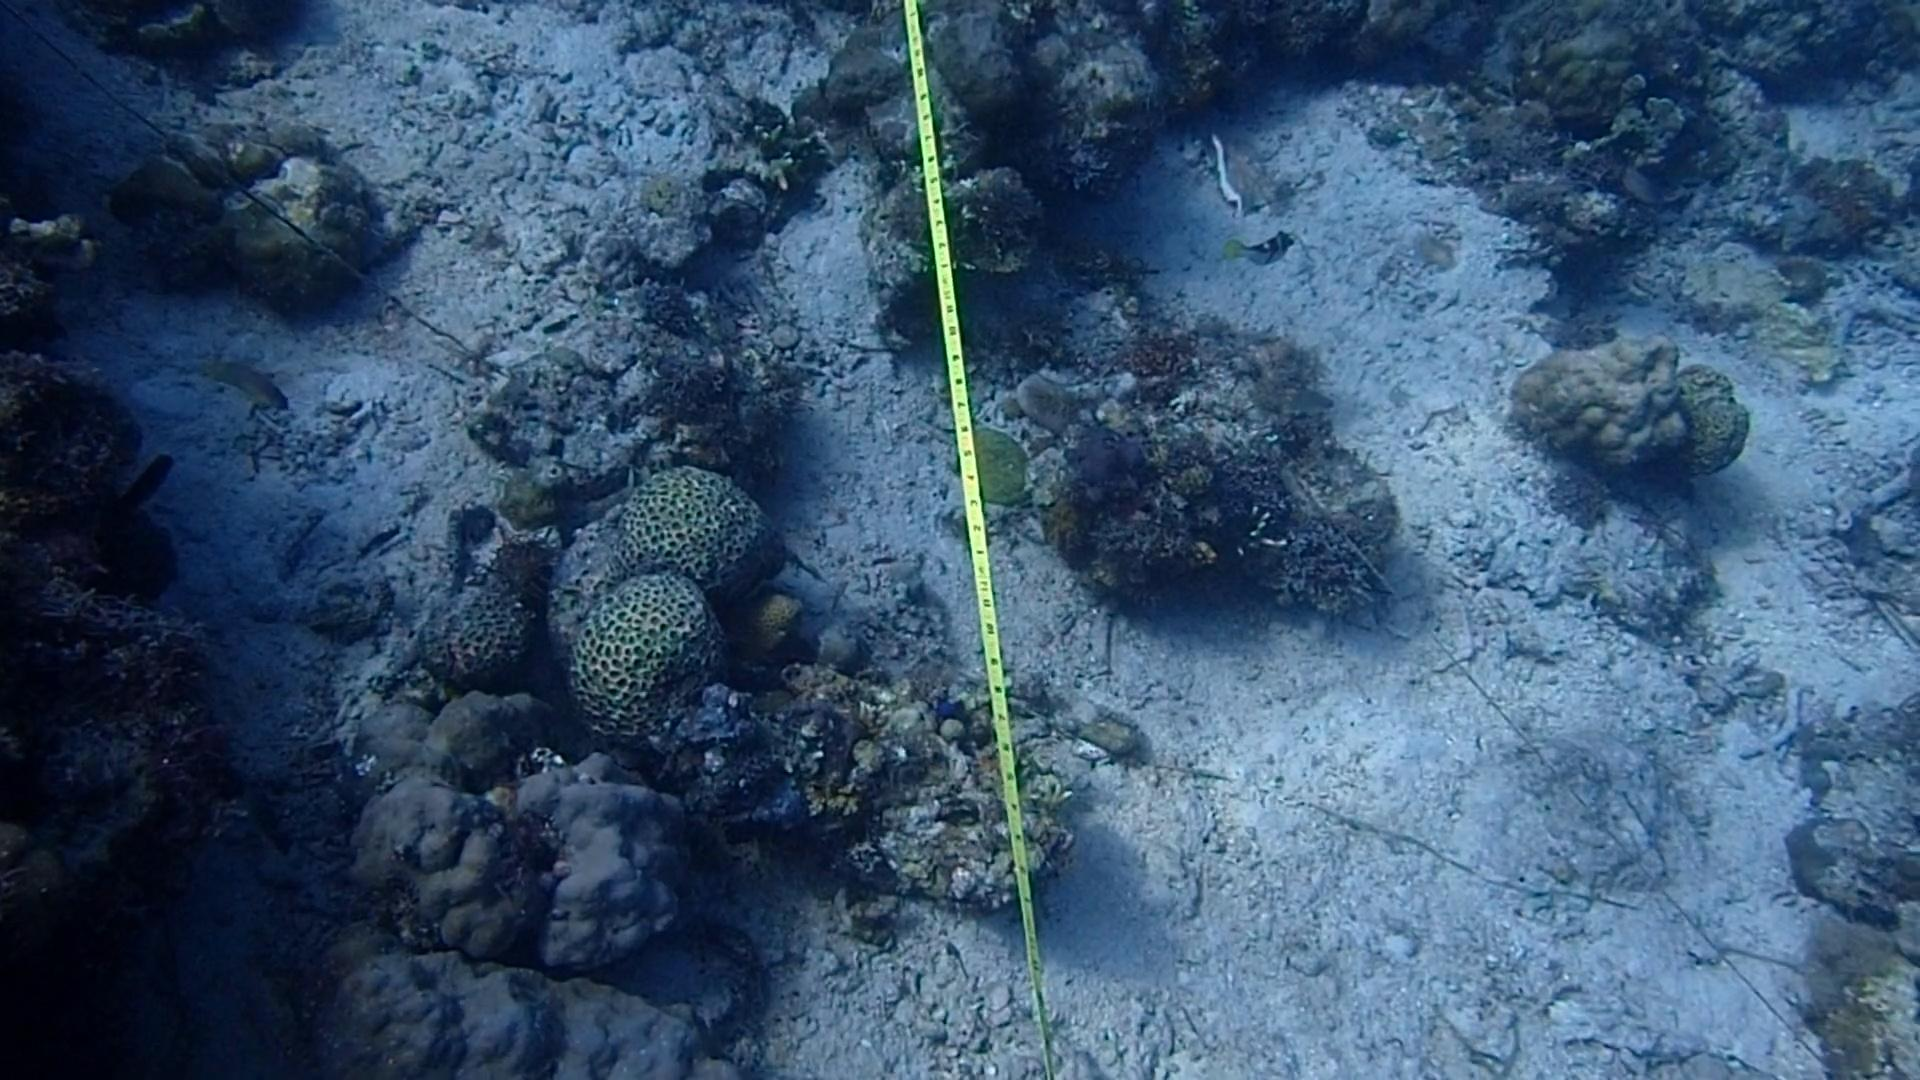Striped Fish: (1233, 228, 1298, 278)
